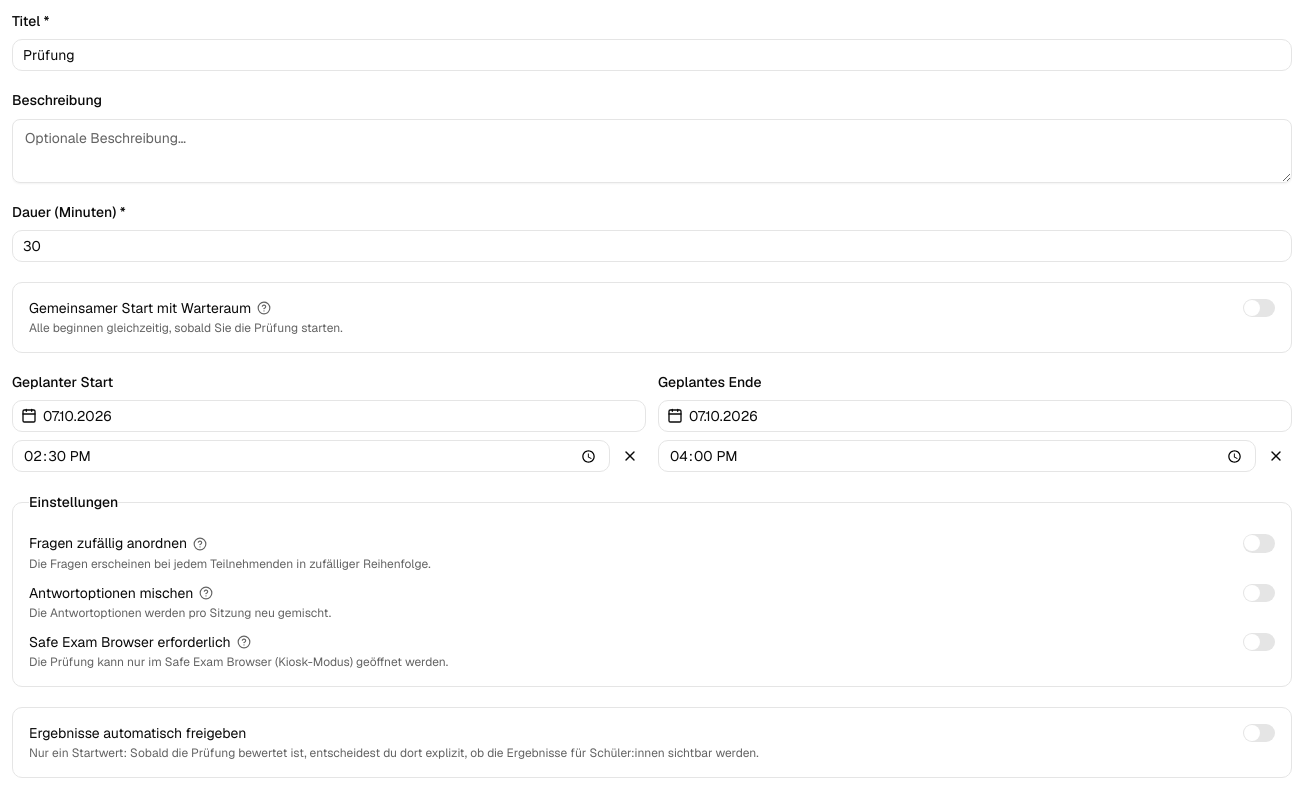
Scenario: turning on the shared start clears the end and every save keeps it on
This screenshot has width=1304, height=812.
Click the switch named "Gemeinsamer Start" in the row of "Gemeinsamer Start mit Warteraum" at (1259, 308), box [1243,299,1275,317]
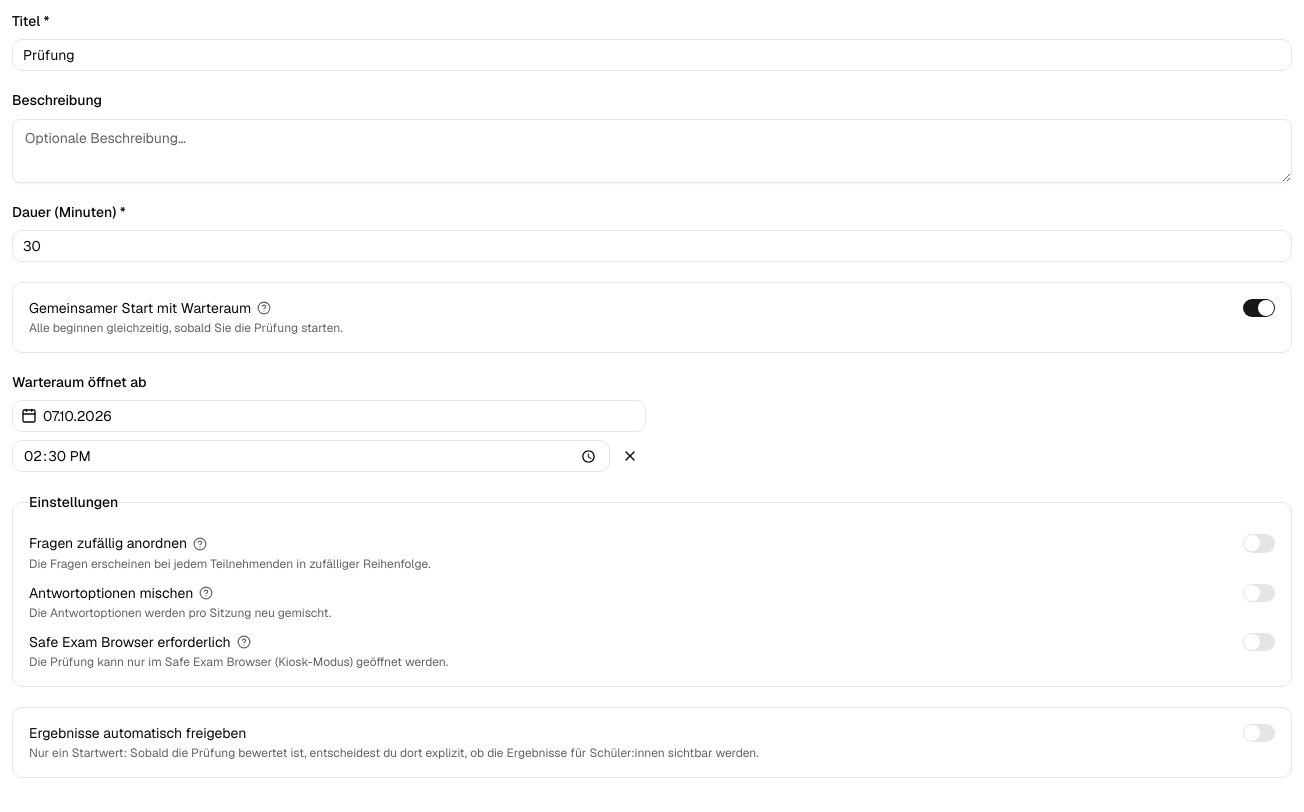
Result: the text "Warteraum öffnet ab" is shown at [12,373,147,391]
Result: the text "Geplantes Ende" is gone
